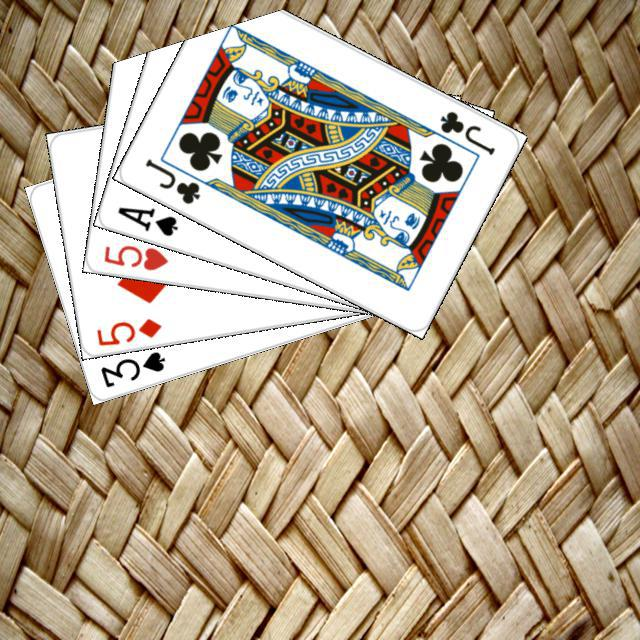3s: (95, 346, 167, 389)
5d: (91, 313, 163, 348)
5h: (98, 240, 170, 272)
As: (112, 202, 180, 238)
Jc: (140, 153, 202, 206), (434, 106, 497, 157)
